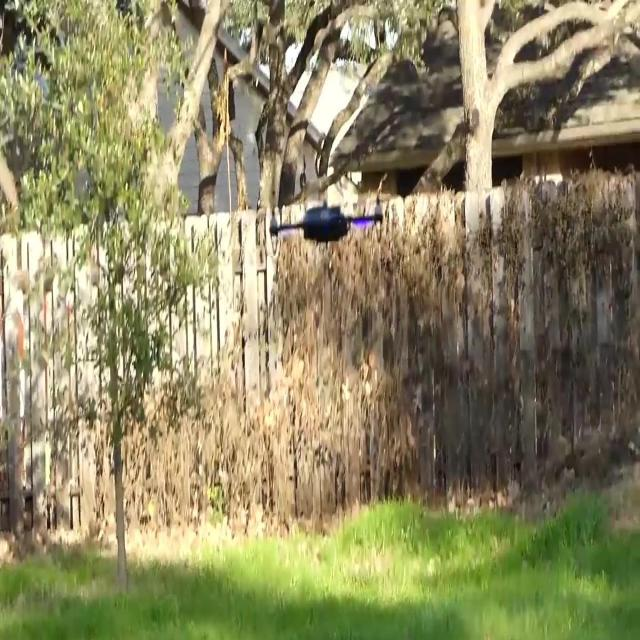drone: (268, 196, 391, 255)
